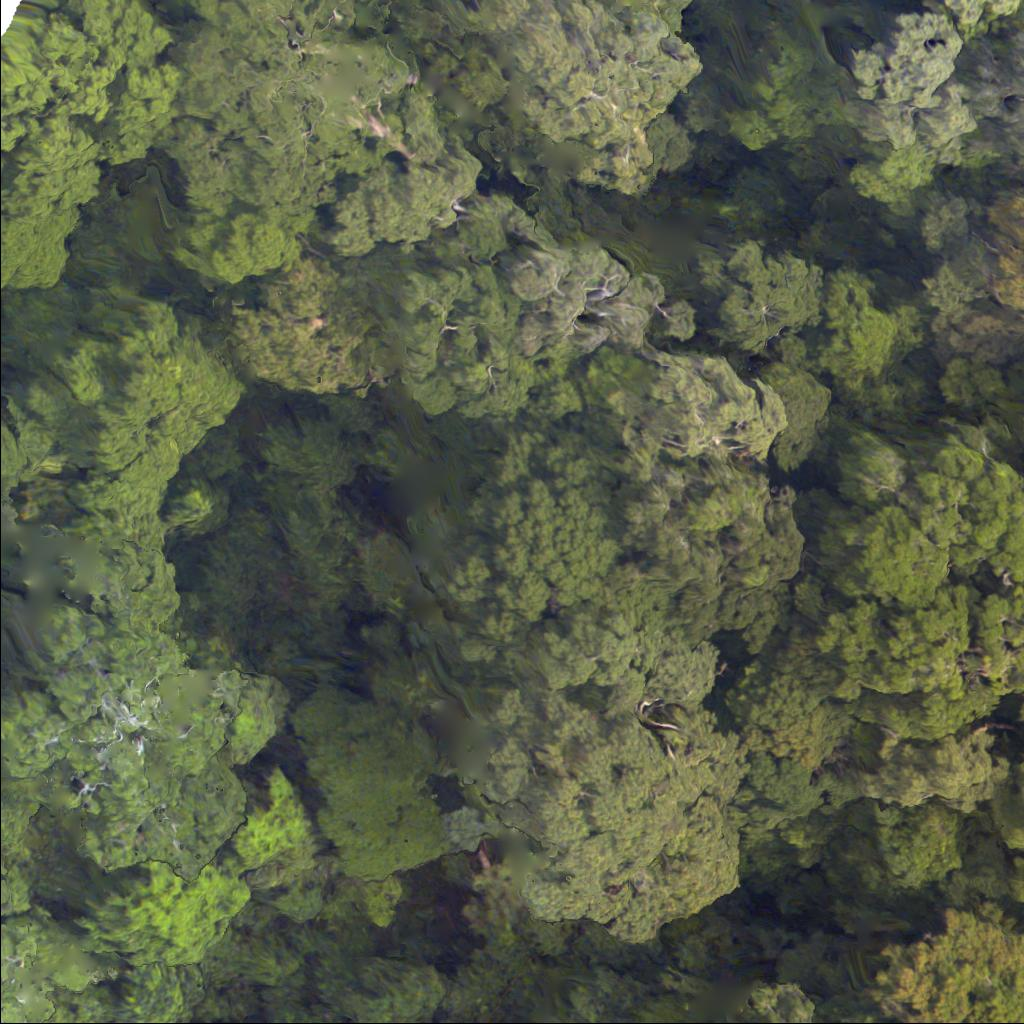crown: (0, 523, 291, 881), (475, 698, 746, 934), (806, 459, 1023, 750), (422, 0, 720, 199), (845, 8, 986, 159), (866, 935, 1023, 1023), (974, 51, 1023, 150), (932, 0, 1023, 34)
